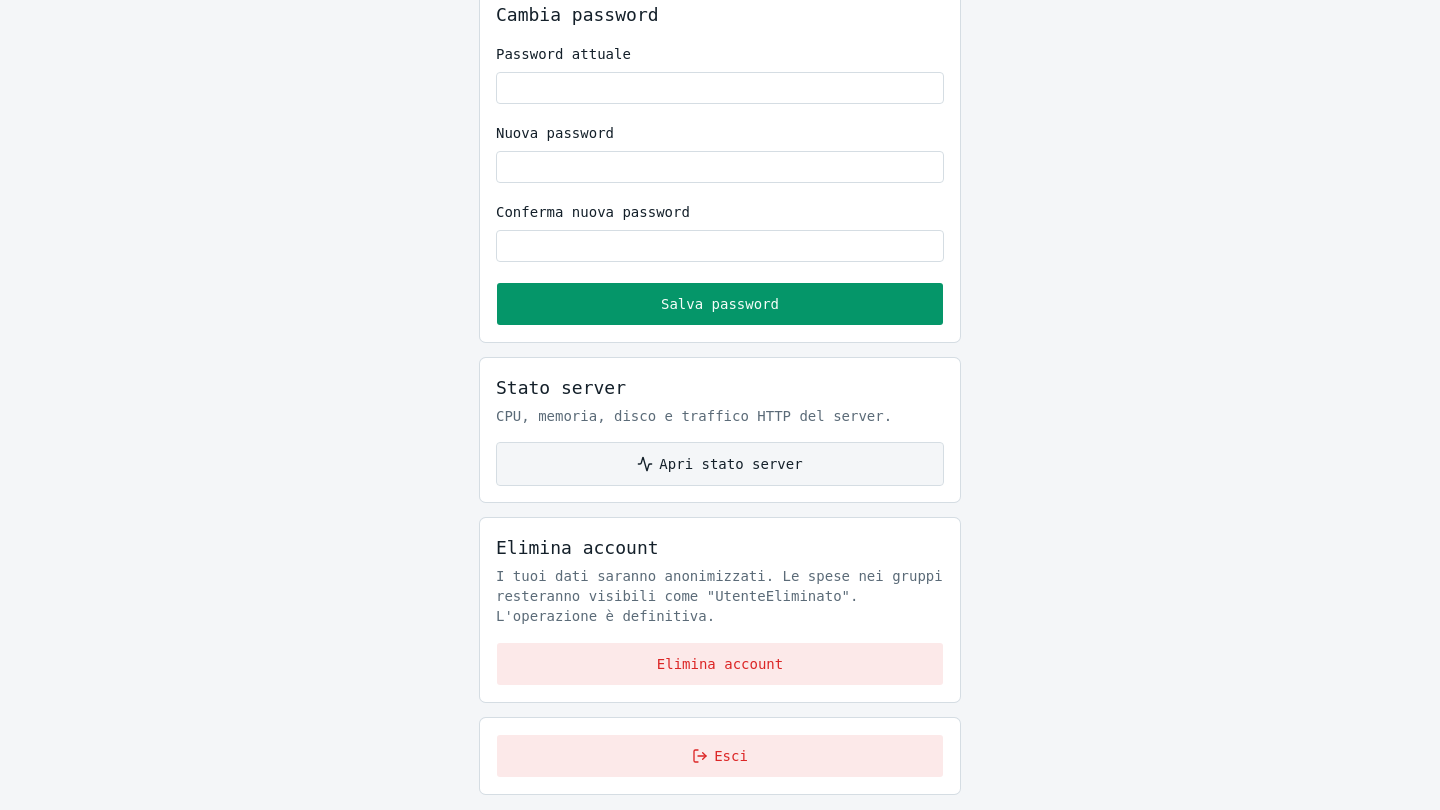
Test: SettingsPage › mostra un avviso se ci sono debiti o crediti aperti
(page scrolled)
Click the button "Elimina account": click(720, 664) [496,642,944,686]
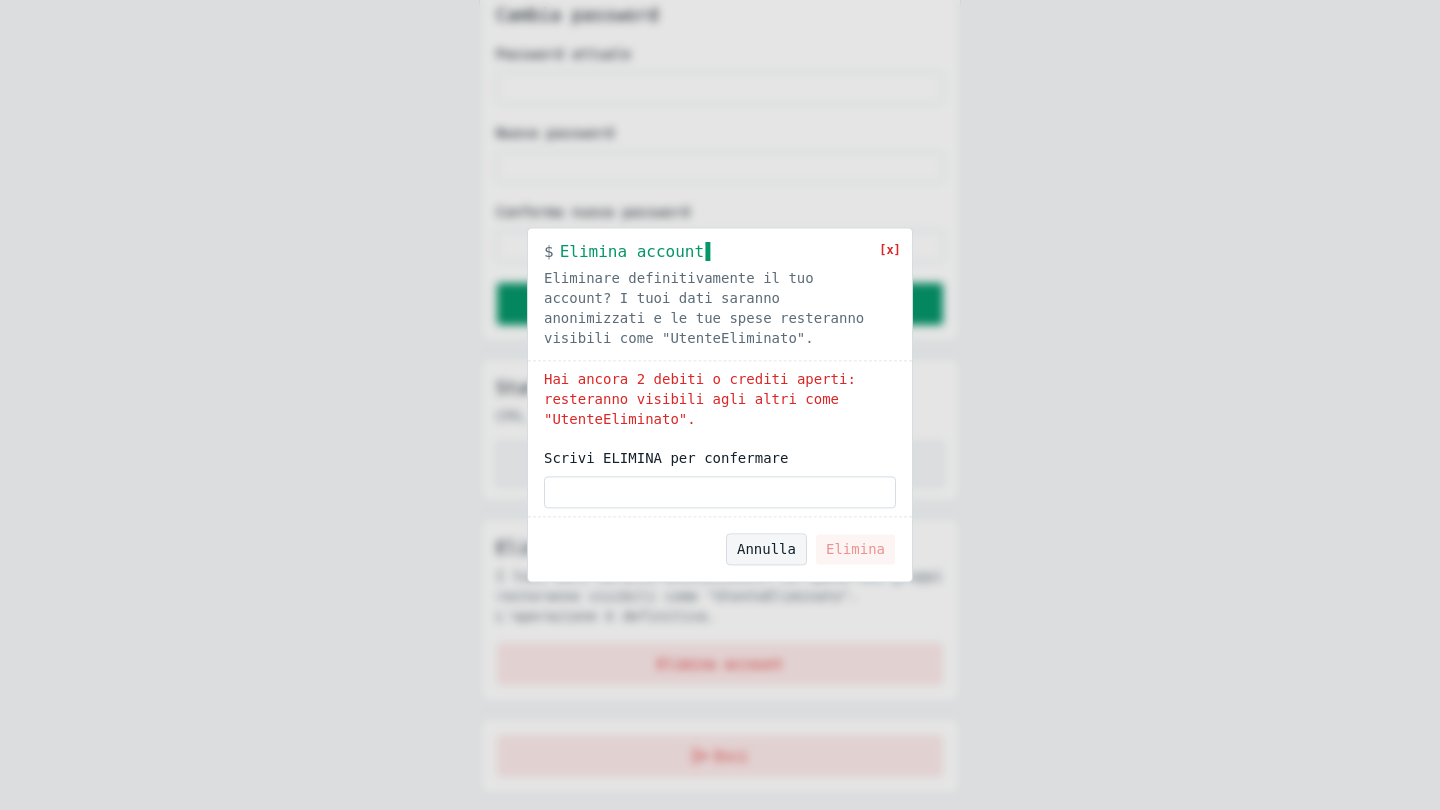
Expected: the text "2 debiti o crediti aperti" is shown, [544,369,896,429]
